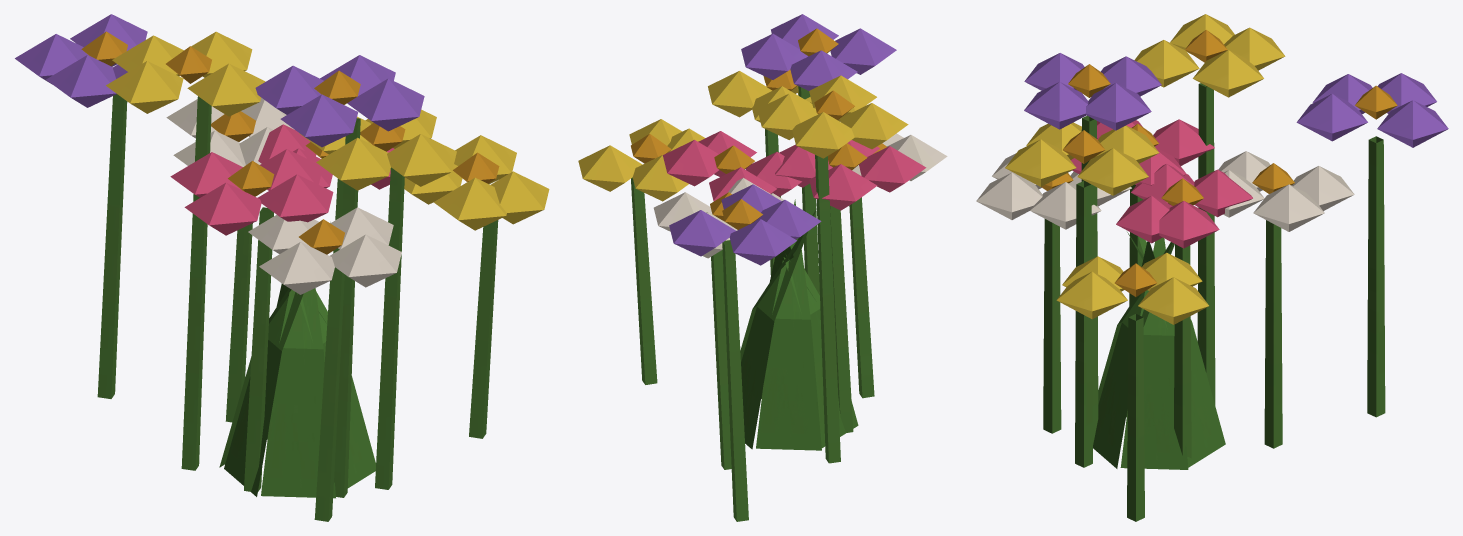
The model's file is flower_patch_01.glb.
The picture shows the model from 3 angles, left to right: view 1: azimuth 30°, elevation 25°; view 2: azimuth 150°, elevation 25°; view 3: azimuth 270°, elevation 25°; orthographic projection. The views are drawn at different scales.
Visible parts, largest first — view 1: flower_patch_01; view 2: flower_patch_01; view 3: flower_patch_01.
Part boxes in pixels (left/top/right/bottom): flower_patch_01: left=15, top=14, right=549, bottom=521; flower_patch_01: left=578, top=14, right=947, bottom=521; flower_patch_01: left=976, top=14, right=1448, bottom=521.
Size of the model in its own units: 0.5253 by 0.5586 by 0.6265.
Materials: 7 (7 with a texture image).
